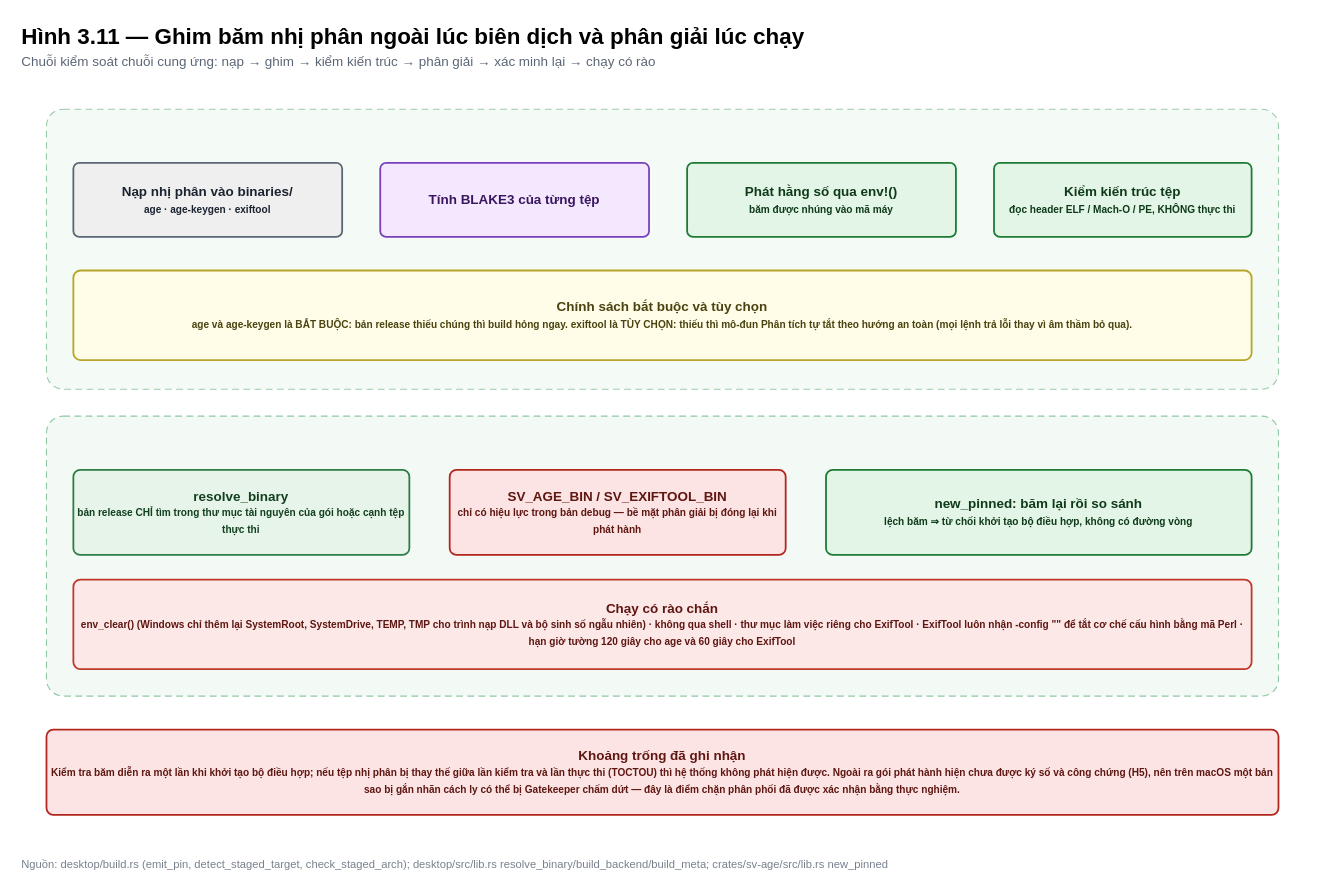
Some shapes in this 1324 by 890 pixel diagram are drawn without their labels. The box of each missing label's shape, as (x1, y1, x2, y2) in pixels:
Thời điểm biên dịch — desktop/build.rs: (45, 108, 1278, 389)
Thời điểm chạy — desktop/src/lib.rs: (45, 415, 1278, 696)
